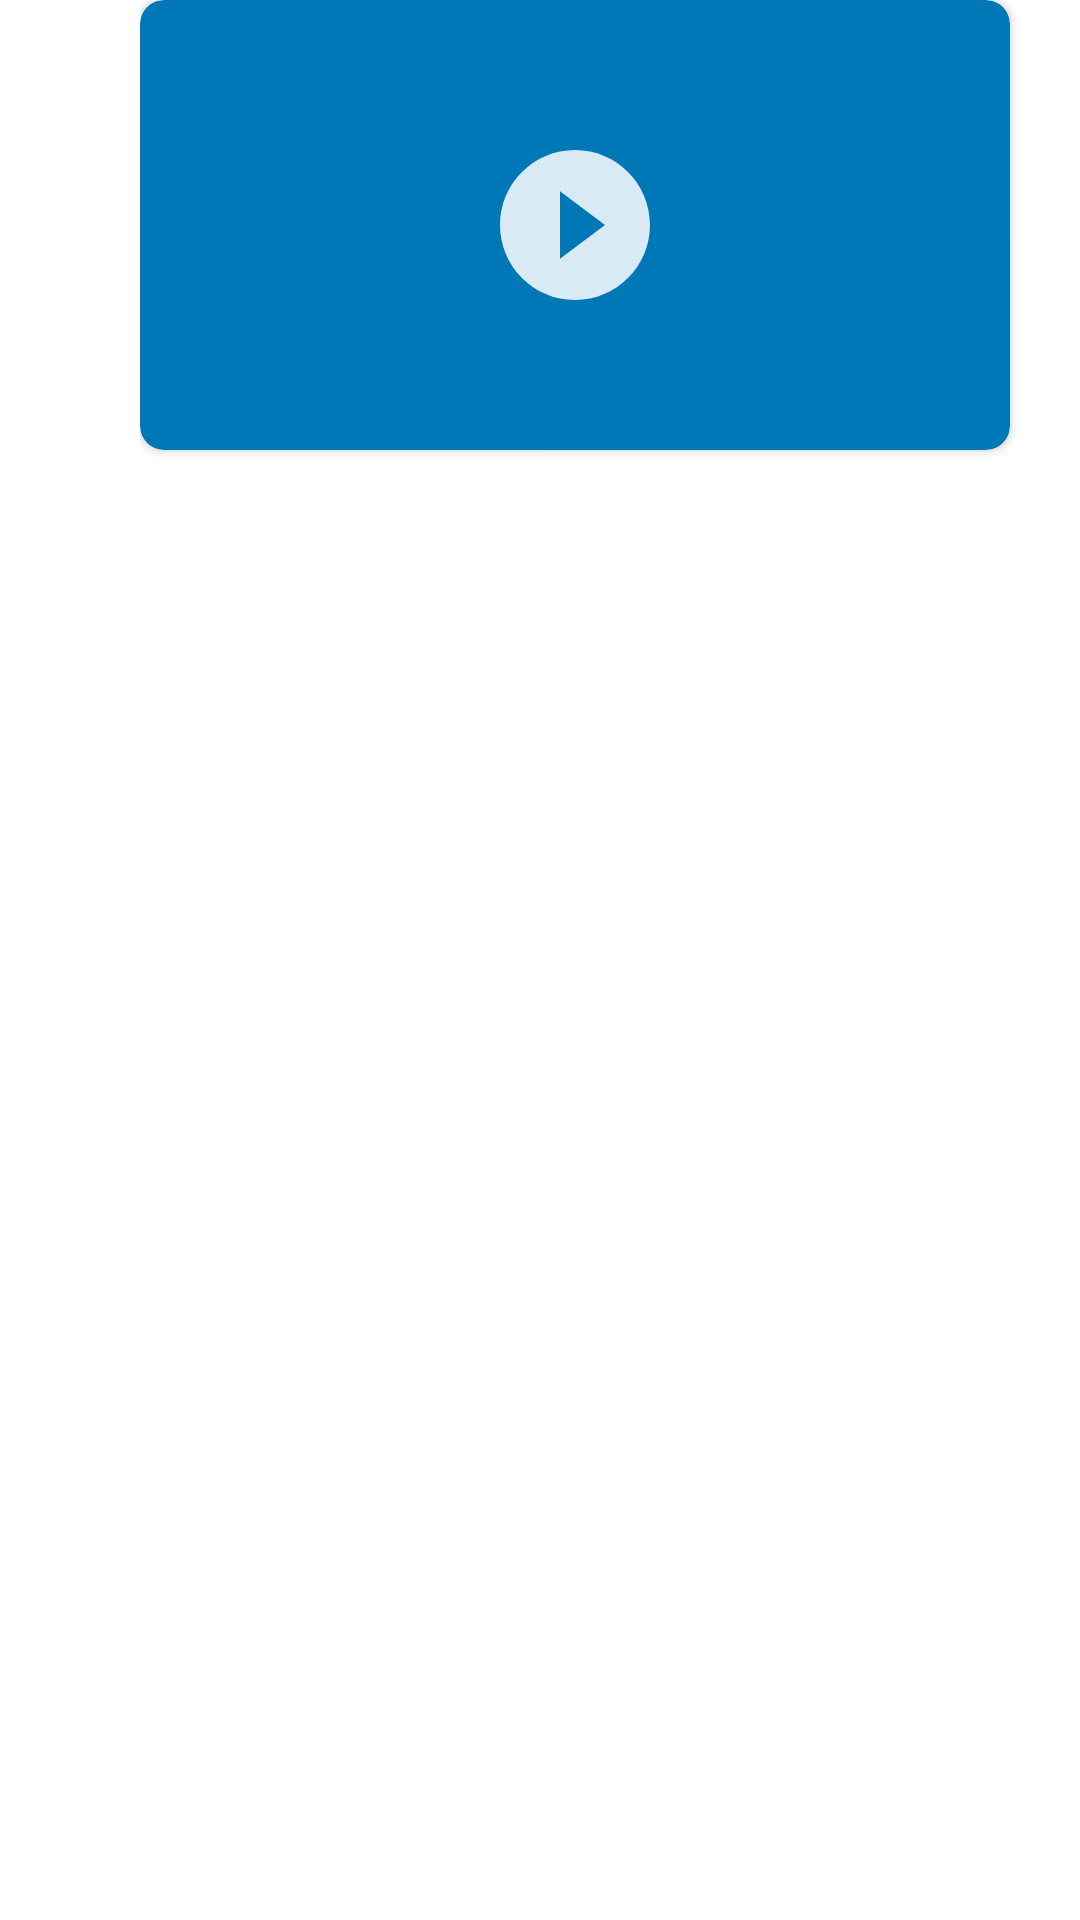

Screen size 1080×1920. Icon name, then its box in pixels as (x1, y1, x2, y2):
play circle: (500, 150, 650, 300)
